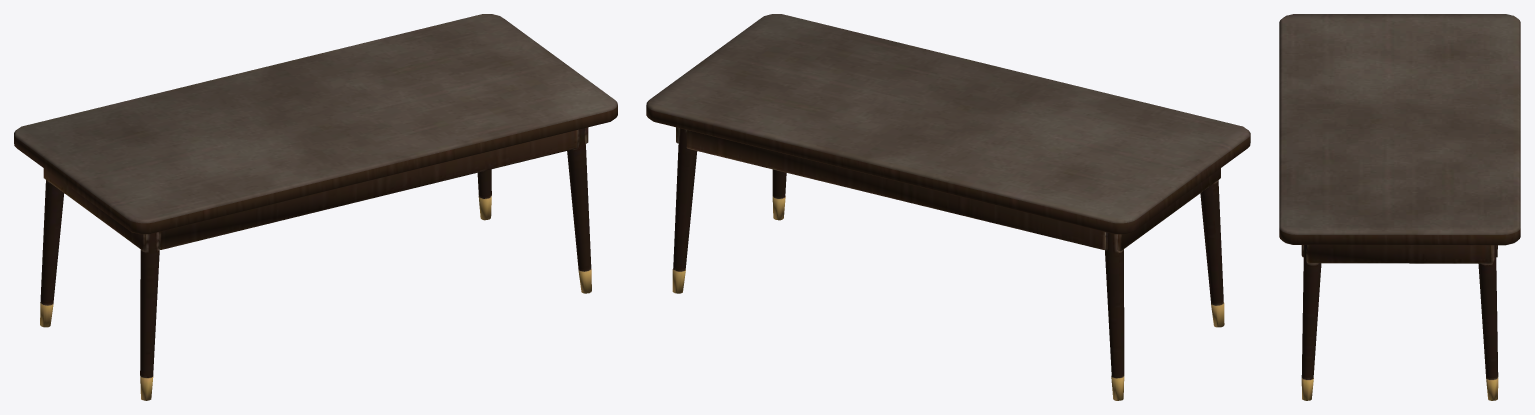
The model's file is coffee_table-low.glb.
The picture shows the model from 3 angles, left to right: view 1: azimuth 30°, elevation 25°; view 2: azimuth 150°, elevation 25°; view 3: azimuth 270°, elevation 25°; orthographic projection. The views are drawn at different scales.
Parts seen in each view (by area): view 1: coffee_table-low; view 2: coffee_table-low; view 3: coffee_table-low.
Part boxes in pixels (left/top/right/bottom): coffee_table-low: left=14, top=14, right=617, bottom=400; coffee_table-low: left=646, top=14, right=1250, bottom=400; coffee_table-low: left=1279, top=14, right=1520, bottom=400.
Bounding box in the file's own units: 1.12 × 0.4204 × 0.519.
1 material, 1 textured.
